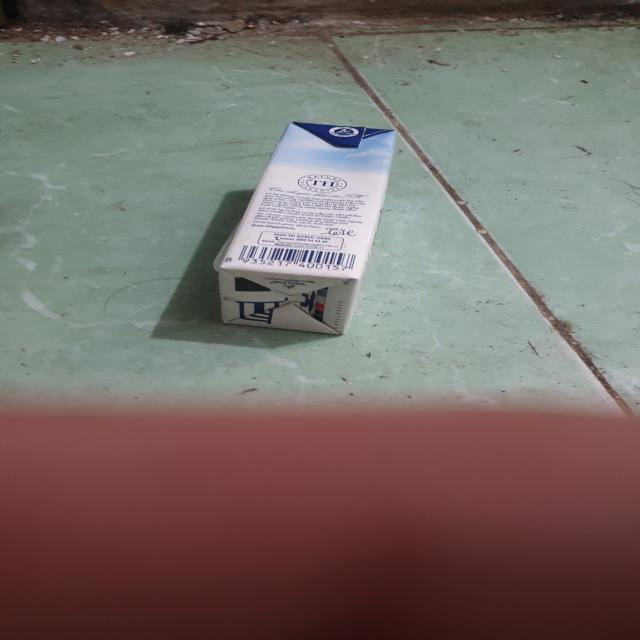TH: (211, 118, 403, 338)
